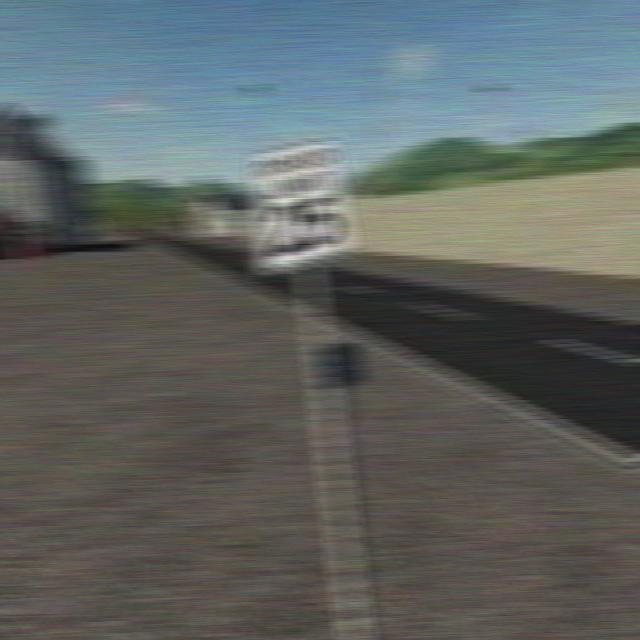speedLimit25: (250, 146, 356, 268)
